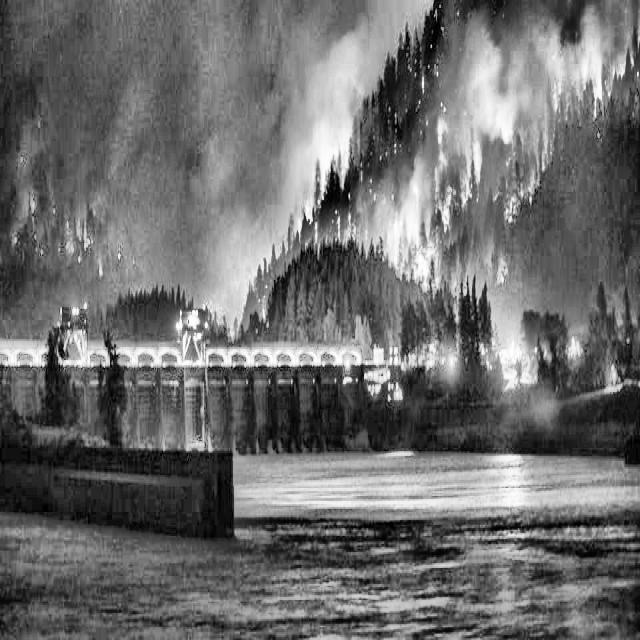fire: (255, 0, 640, 319)
